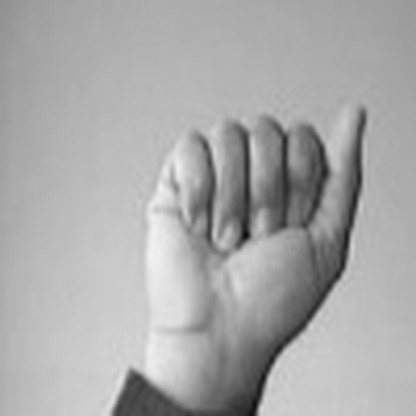a: (129, 80, 383, 353)
